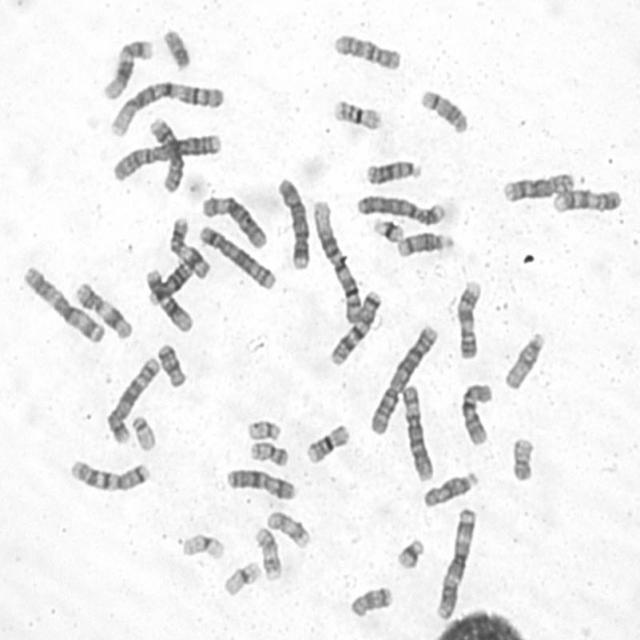A1: (105, 76, 226, 138), (308, 195, 364, 322)
A2: (365, 320, 440, 436), (108, 129, 223, 183)
A3: (18, 260, 106, 346), (431, 502, 478, 621)
B4: (272, 172, 311, 270), (352, 189, 448, 227)
B5: (195, 220, 277, 292), (102, 352, 162, 445)
C10: (329, 28, 403, 72), (455, 377, 494, 447)
C11: (70, 277, 134, 342), (165, 212, 212, 281)
C12: (98, 33, 154, 101), (142, 263, 194, 334)
C6: (198, 189, 268, 250), (396, 378, 436, 482)
C7: (325, 284, 384, 367), (66, 453, 150, 493)
C8: (144, 111, 185, 194), (499, 167, 576, 203)
C9: (452, 275, 483, 361), (548, 183, 623, 216)
D13: (144, 254, 193, 306), (361, 154, 423, 186)
D14: (415, 84, 469, 135), (392, 227, 455, 260)
D15: (499, 328, 546, 392), (419, 466, 479, 508)
E16: (301, 419, 352, 465), (328, 93, 384, 132)
E17: (262, 506, 312, 550), (250, 523, 284, 582)
E18: (345, 581, 394, 619), (152, 338, 188, 389)
F19: (218, 556, 261, 598), (177, 528, 226, 562)
F20: (507, 432, 536, 483), (245, 437, 290, 467)
G21: (392, 533, 427, 571), (368, 214, 405, 244)
G22: (127, 410, 157, 452), (243, 415, 282, 442)
X: (221, 463, 298, 502)
Y: (159, 24, 192, 71)
